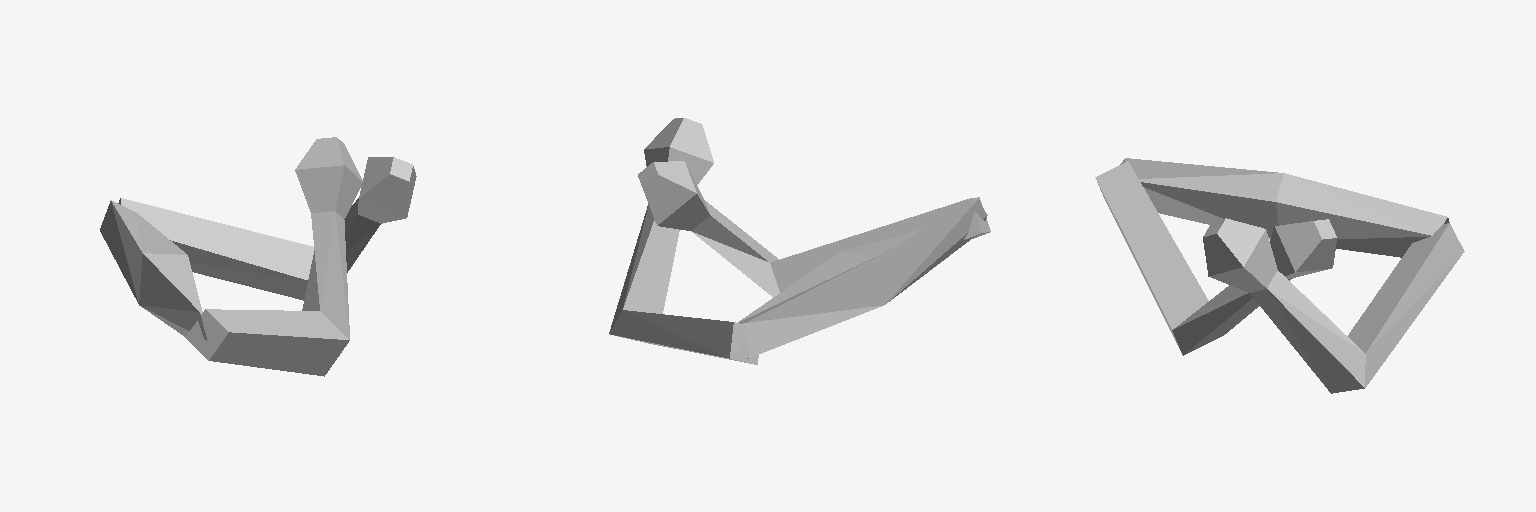
The model's file is handsBlock_000058.obj.
3 views of the same model, side by side, from view 1: azimuth 30°, elevation 25°; view 2: azimuth 150°, elevation 25°; view 3: azimuth 270°, elevation 25° (orthographic).
Parts seen in each view (by area): view 1: Cube; view 2: Cube; view 3: Cube.
Part boxes in pixels (x1,y1,x2,y2): Cube: (100, 137, 416, 376); Cube: (609, 118, 990, 364); Cube: (1095, 158, 1464, 393).
Size of the model in its own units: 4.57 by 2.81 by 5.13.